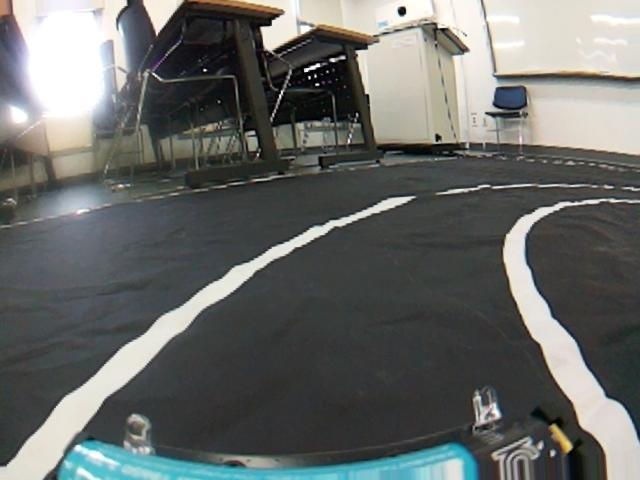right: (0, 177, 640, 480)
